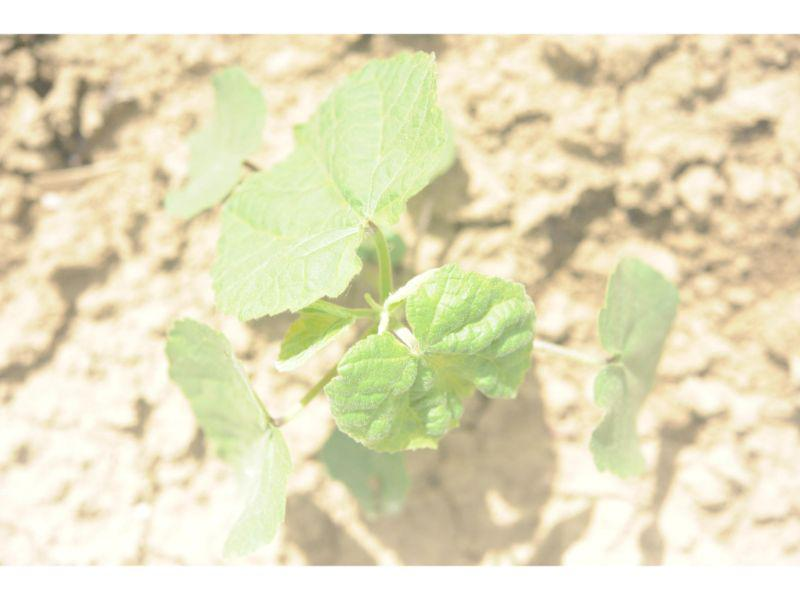velvet: (167, 51, 672, 552)
